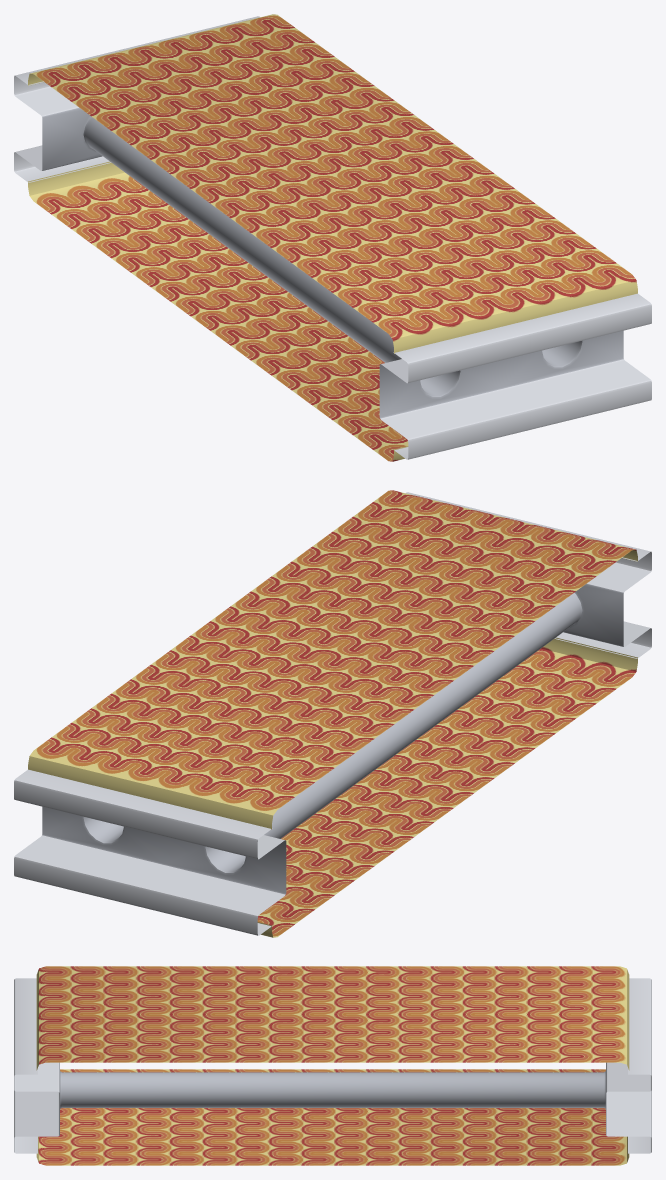
The model's file is SM_Wall_50x100.fbx.
3 renders of one model, top to bottom at view 1: azimuth 30°, elevation 25°; view 2: azimuth 150°, elevation 25°; view 3: azimuth 270°, elevation 25°, orthographic. The views are drawn at different scales.
Parts seen in each view (by area): view 1: SM_Wall_50x100; view 2: SM_Wall_50x100; view 3: SM_Wall_50x100.
Boxes of the visible parts, box(x1,y1,x2,y2) form: SM_Wall_50x100: box(14, 14, 651, 461); SM_Wall_50x100: box(14, 490, 651, 937); SM_Wall_50x100: box(14, 966, 651, 1165).
Bounding box in the file's own units: 100 × 280 × 49.9.
Materials: 1 (1 with a texture image).
